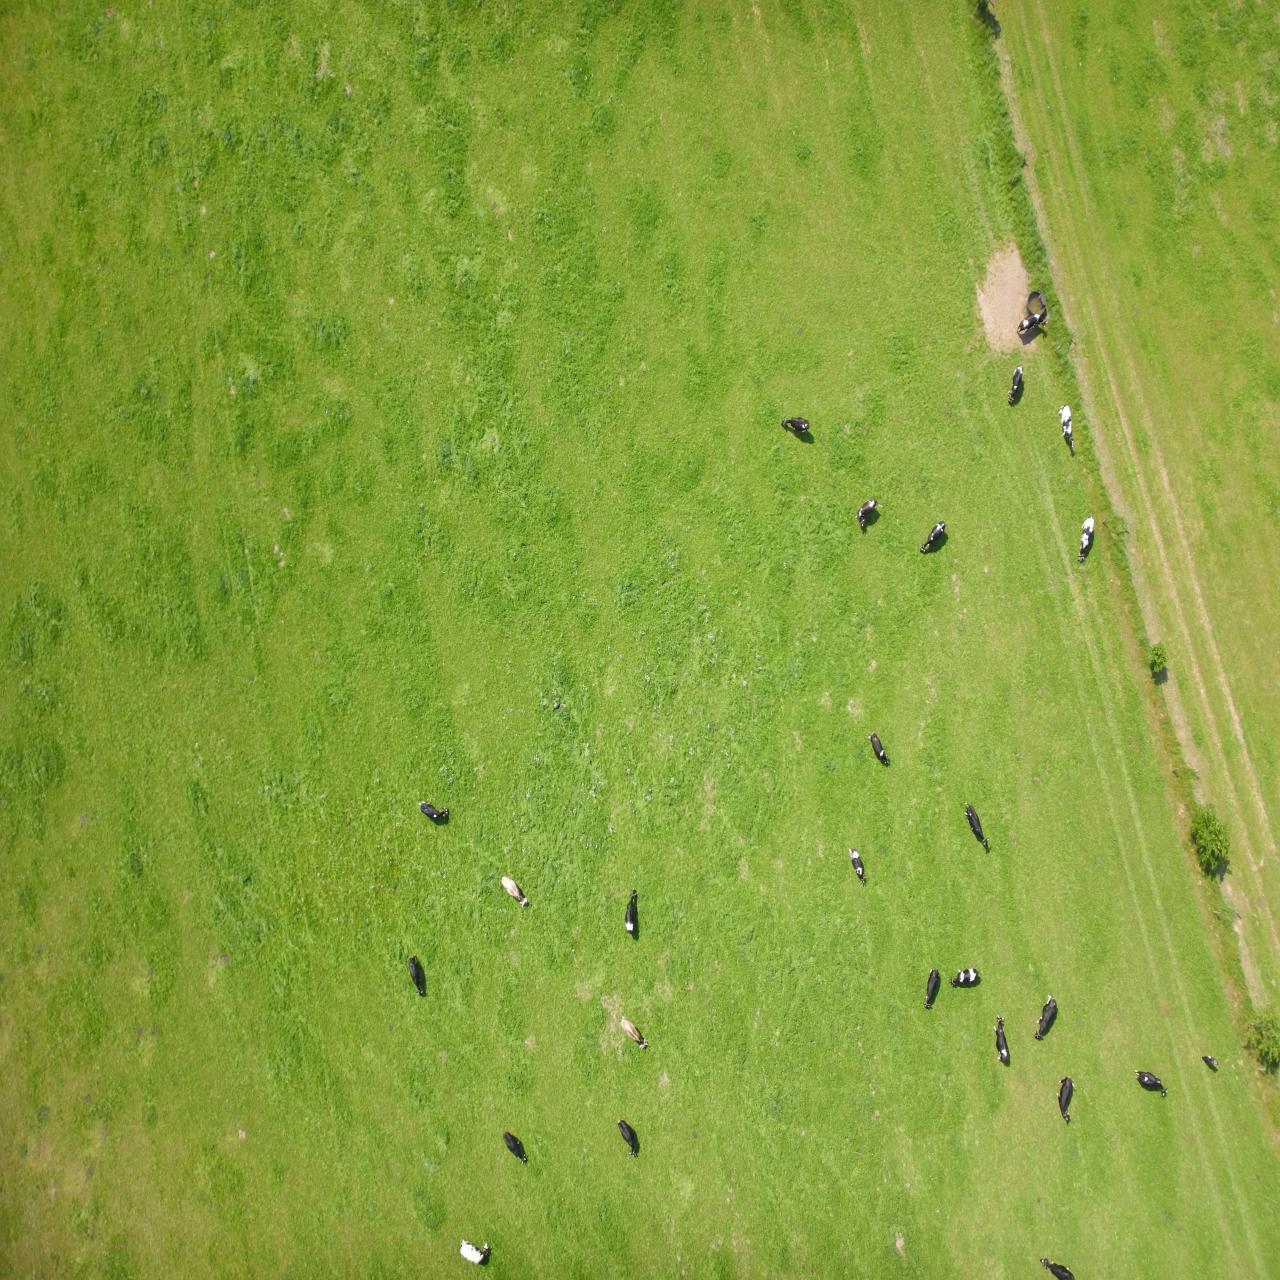cow: (222, 238, 246, 286), (291, 431, 316, 477), (632, 231, 661, 265), (111, 184, 145, 211), (204, 158, 224, 204), (750, 373, 778, 404), (753, 116, 778, 149), (397, 753, 424, 783), (334, 727, 360, 758), (185, 715, 202, 764), (389, 515, 411, 549), (271, 216, 286, 265), (644, 122, 662, 162), (791, 15, 819, 41), (413, 395, 431, 431), (205, 832, 220, 876), (300, 291, 331, 312), (857, 285, 872, 327), (342, 270, 356, 312), (257, 877, 272, 915), (832, 461, 862, 481), (642, 346, 655, 390), (231, 948, 263, 966), (470, 847, 498, 866)
